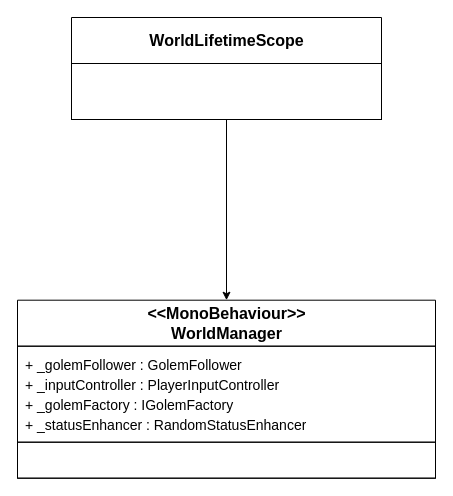
Image size: 453x496. Some labels were removed from this diagram. The centre of each missing label's shape, as x and y in pixels:
+ _worldManager : WorldManager + _inputController : PlayerInputController: the point at 226,91
+ Initialize(IGolemFactory, RandomStatusEnhancer) : void: the point at 226,459
